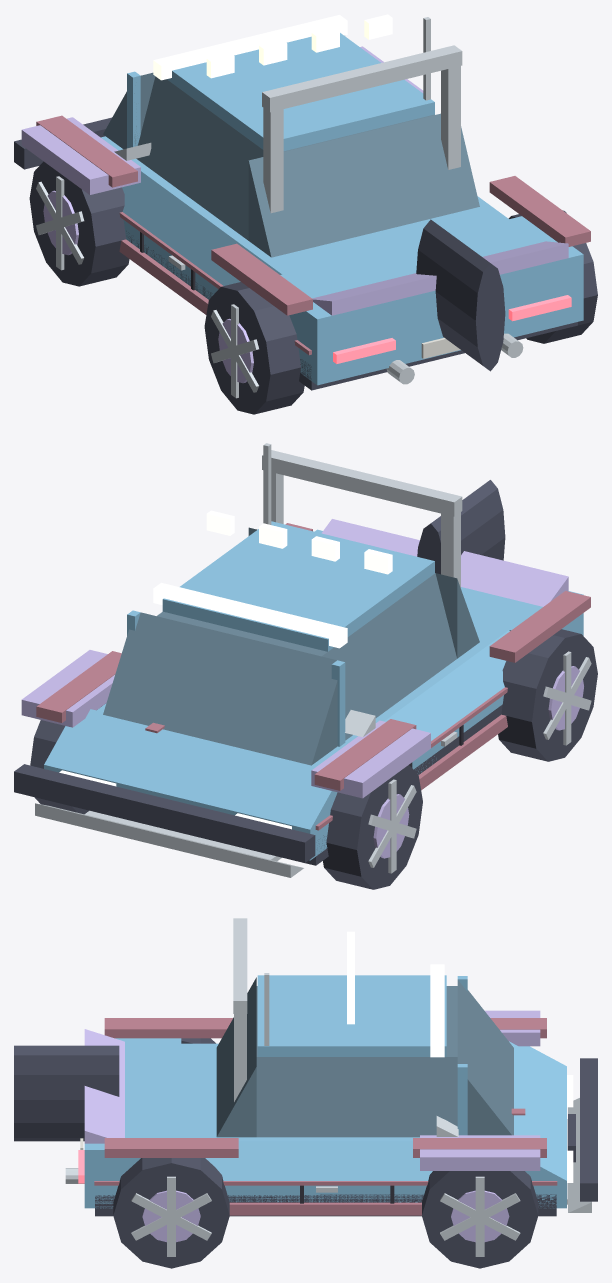
The model's file is dune_dart.glb.
3 renders of one model, top to bottom at view 1: azimuth 30°, elevation 25°; view 2: azimuth 150°, elevation 25°; view 3: azimuth 270°, elevation 25°, orthographic. The views are drawn at different scales.
Parts seen in each view (by area): view 1: RearWindow.168, Tail.068, Roof.268, CabinSideL.065, SpareTyre.021, Wheel_RL.228, Body.268, Wheel_FL.228, BodyUpper.065, ShoulderL.065, RollBar.061, Ducktail.051 (+28 smaller); view 2: Windshield.168, Nose.065, Roof.268, CabinSideL.065, BashBar.061, Wheel_RL.228, Wheel_FL.228, Ducktail.051, ShoulderL.065, RollBar.061, SpareTyre.021, Bumper.264 (+31 smaller); view 3: CabinSideR.065, Roof.268, SpareTyre.021, ShoulderR.065, Wheel_RR.228, Tail.068, Wheel_FR.228, Windshield.168, Nose.065, Body.268, BodyUpper.065, RearWindow.168 (+25 smaller).
Part boxes in pixels (bbox=[...]): RearWindow.168: bbox=[248, 113, 479, 257]; Tail.068: bbox=[280, 216, 583, 354]; Roof.268: bbox=[167, 33, 434, 151]; CabinSideL.065: bbox=[136, 76, 263, 240]; SpareTyre.021: bbox=[416, 219, 505, 371]; Wheel_RL.228: bbox=[204, 282, 304, 414]; Body.268: bbox=[123, 220, 583, 385]; Wheel_FL.228: bbox=[29, 161, 129, 286]; BodyUpper.065: bbox=[101, 136, 508, 274]; ShoulderL.065: bbox=[122, 171, 281, 285]; RollBar.061: bbox=[262, 45, 462, 112]; Ducktail.051: bbox=[312, 241, 568, 315]; Windshield.168: bbox=[103, 612, 337, 765]; Nose.065: bbox=[44, 709, 337, 829]; Roof.268: bbox=[162, 521, 434, 651]; CabinSideL.065: bbox=[322, 573, 456, 740]; BashBar.061: bbox=[14, 764, 315, 862]; Wheel_RL.228: bbox=[498, 629, 597, 761]; Wheel_FL.228: bbox=[323, 765, 422, 889]; Ducktail.051: bbox=[321, 519, 568, 606]; ShoulderL.065: bbox=[384, 630, 509, 740]; RollBar.061: bbox=[262, 450, 462, 516]; SpareTyre.021: bbox=[417, 480, 505, 574]; Bumper.264: bbox=[35, 803, 303, 877]; CabinSideR.065: bbox=[256, 1057, 457, 1137]; Roof.268: bbox=[257, 975, 446, 1056]; SpareTyre.021: bbox=[14, 1045, 119, 1141]; ShoulderR.065: bbox=[205, 1141, 432, 1180]; Wheel_RR.228: bbox=[113, 1158, 229, 1268]; Tail.068: bbox=[84, 1038, 181, 1180]; Wheel_FR.228: bbox=[422, 1171, 538, 1268]; Windshield.168: bbox=[457, 980, 513, 1135]; Nose.065: bbox=[509, 1041, 566, 1180]; Body.268: bbox=[84, 1181, 566, 1208]; BodyUpper.065: bbox=[181, 1043, 419, 1141]; RearWindow.168: bbox=[216, 977, 256, 1137].
Bounding box in the file's own units: 3.46 × 2.84 × 5.81.
